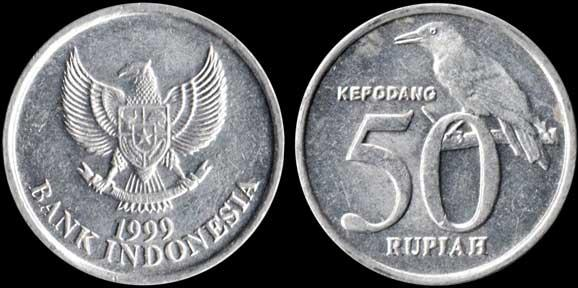coin_50_1999: (0, 0, 285, 288), (290, 0, 578, 284)
